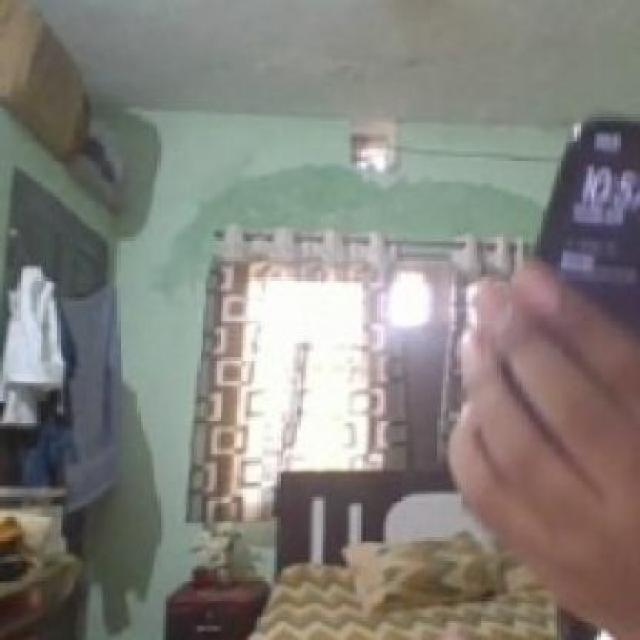Phone: (534, 115, 640, 335)
